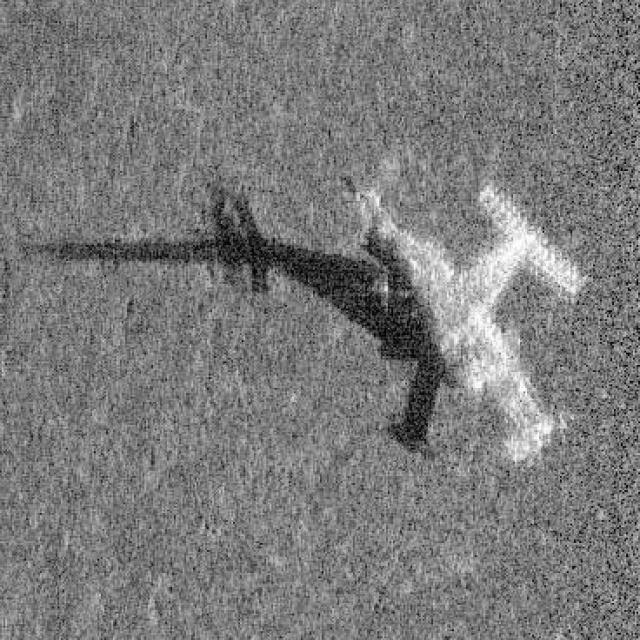plane: (342, 175, 616, 490)
